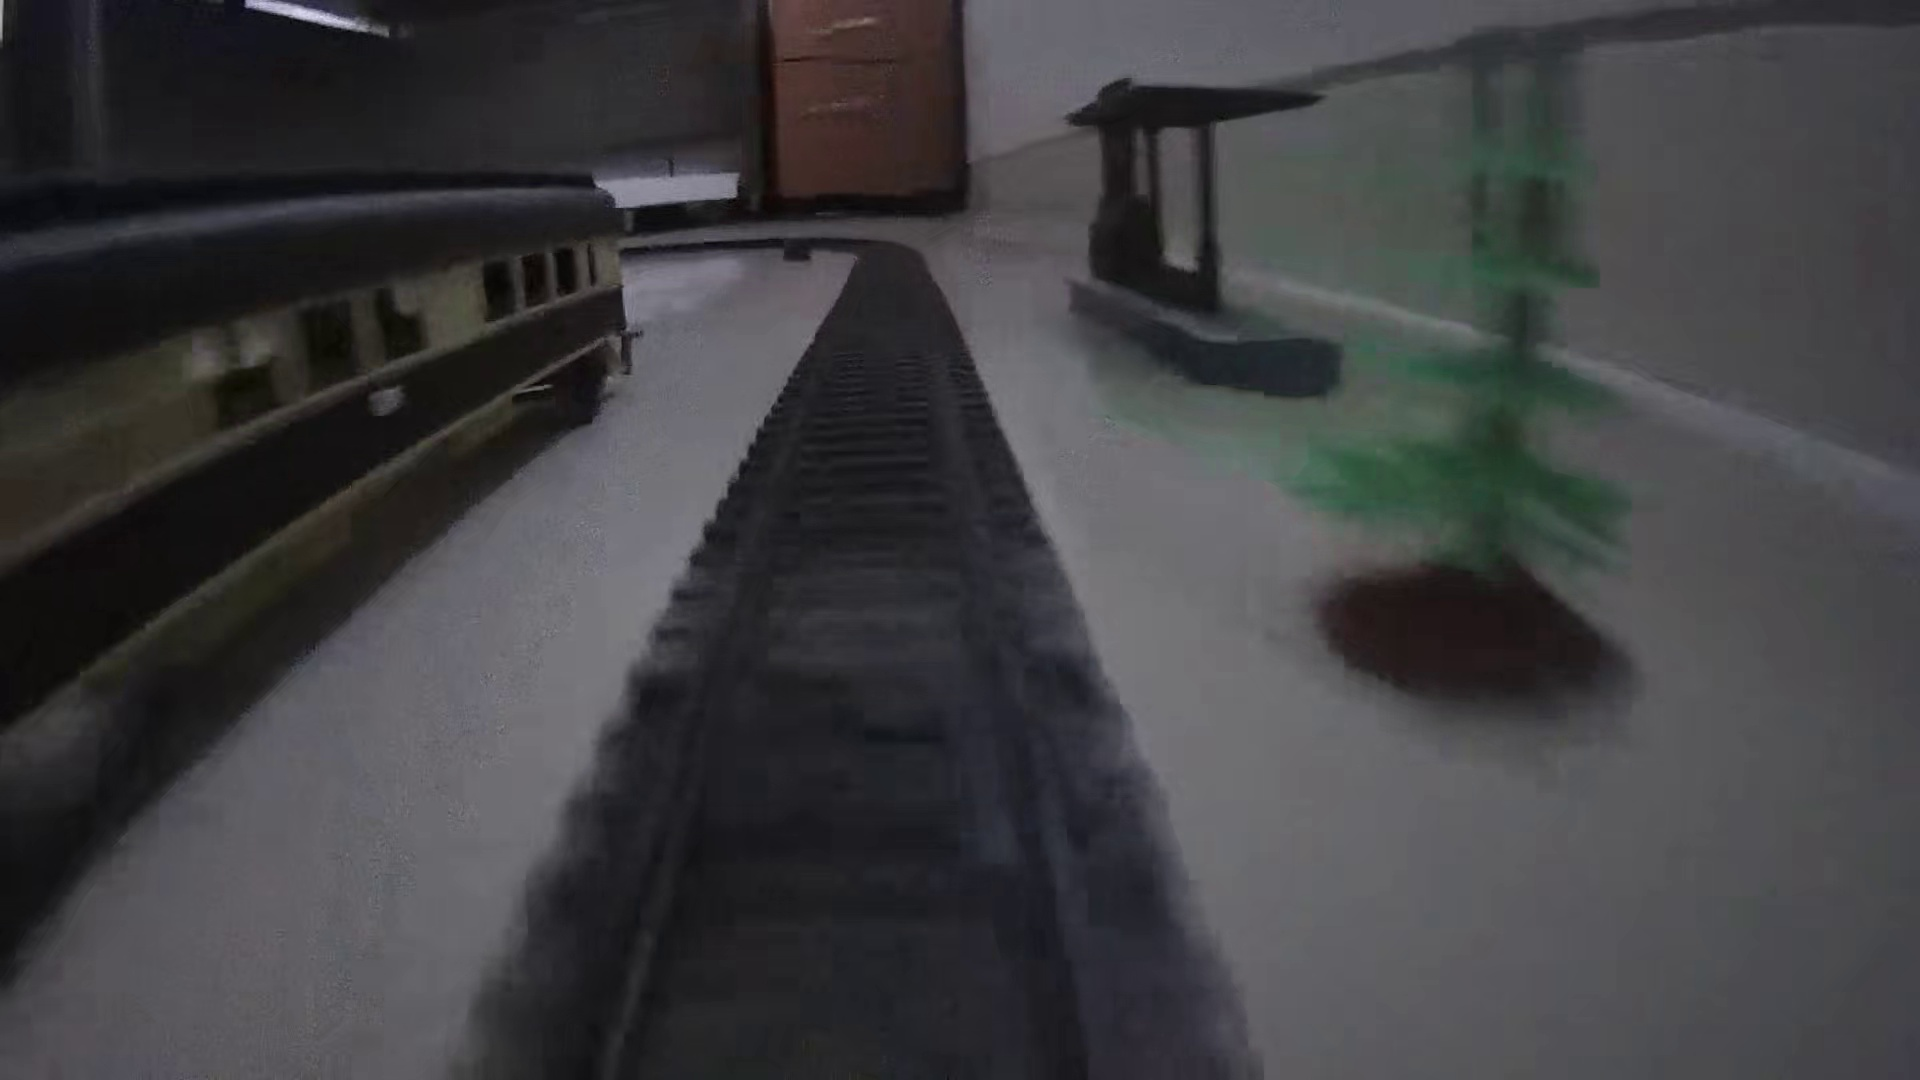tree: (1287, 28, 1646, 714)
